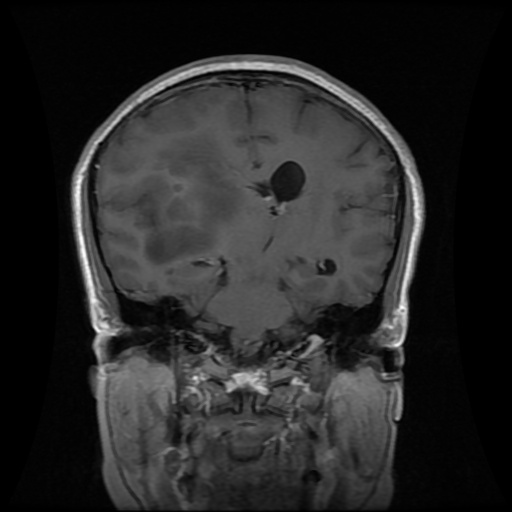glioma: (105, 128, 247, 266)
